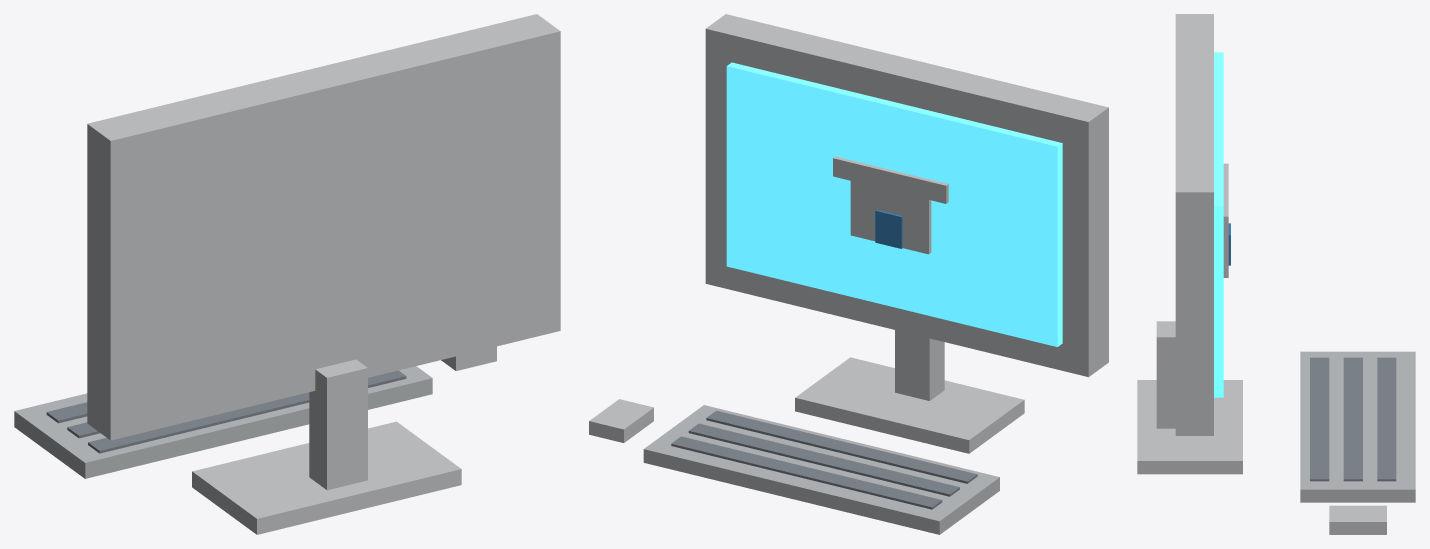
Rendered from tv-computer.glb.
3 renders of one model, left to right at view 1: azimuth 30°, elevation 25°; view 2: azimuth 150°, elevation 25°; view 3: azimuth 270°, elevation 25°, orthographic. The views are drawn at different scales.
Parts seen in each view (by area): view 1: box-prop; view 2: box-prop; view 3: box-prop.
Boxes of the visible parts, x1,y1,x2,y2 form: box-prop: [14, 14, 560, 534]; box-prop: [589, 14, 1108, 534]; box-prop: [1137, 14, 1415, 534].
Bounding box in the file's own units: 0.94 × 0.76 × 0.58.
